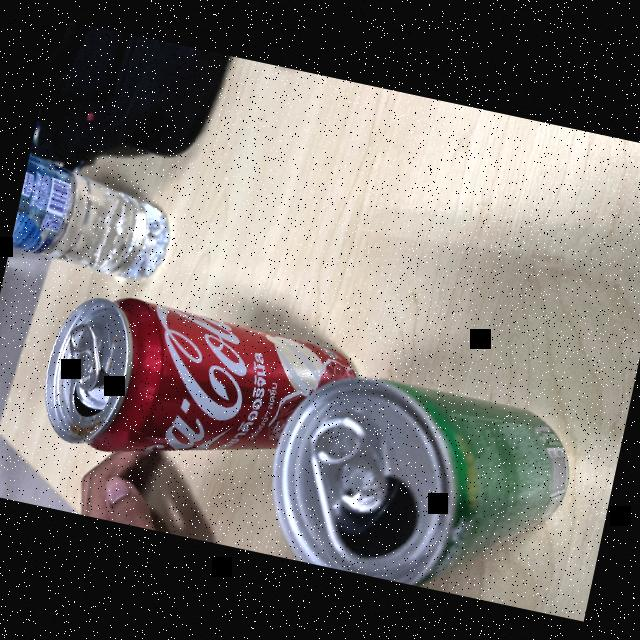can: (241, 339, 582, 612), (24, 266, 368, 509)
